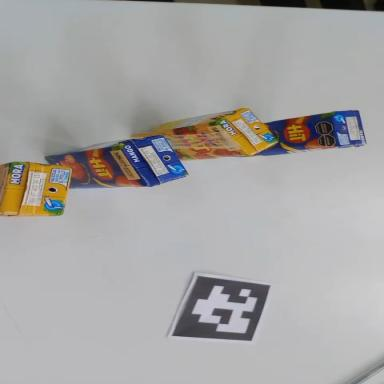HIT-MANGO: (45, 135, 187, 188), (261, 109, 365, 156)
HIT-MORA: (132, 107, 277, 162), (0, 162, 71, 216)
cara_F: (131, 120, 249, 164), (44, 145, 150, 190), (250, 112, 340, 155)
